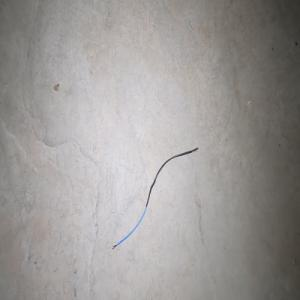Wire: (111, 146, 198, 249)
